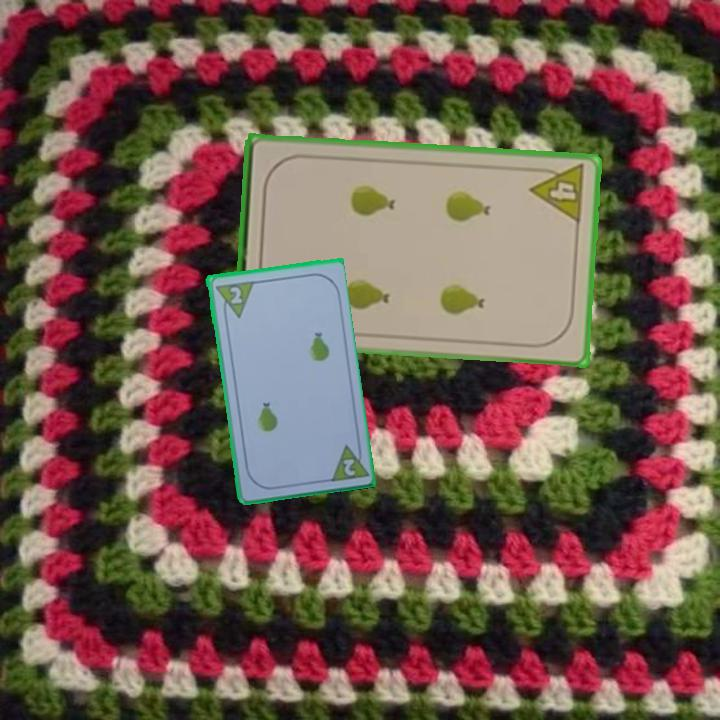2p: (211, 277, 255, 322), (339, 455, 358, 479)
4p: (527, 161, 588, 226)
